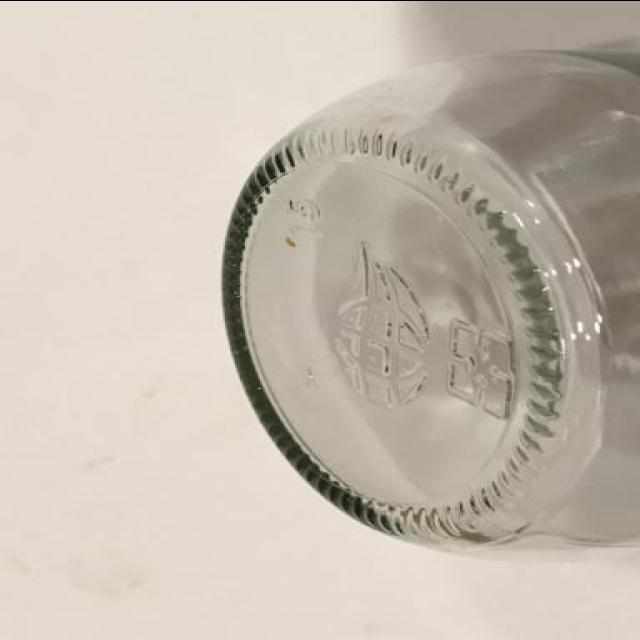glass: (203, 44, 640, 566)
